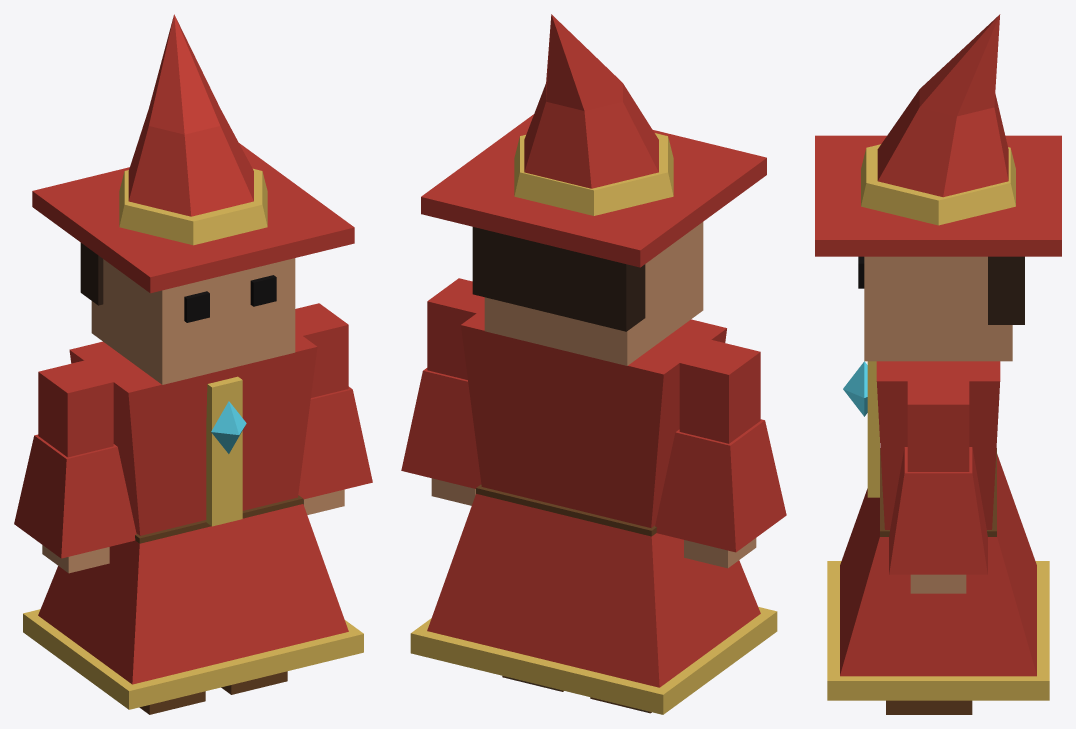
The model's file is Mage.obj.
The picture shows the model from 3 angles, left to right: view 1: azimuth 30°, elevation 25°; view 2: azimuth 150°, elevation 25°; view 3: azimuth 270°, elevation 25°; orthographic projection. The views are drawn at different scales.
Parts seen in each view (by area): view 1: Torso, Head, ArmL, ArmR, LegR, LegL; view 2: Torso, Head, ArmL, ArmR; view 3: Head, Torso, ArmR, LegR.
Boxes of the visible parts, <box> form: Torso: <box>23,331,363,709</box>; Head: <box>32,14,354,384</box>; ArmL: <box>14,360,136,573</box>; ArmR: <box>295,303,372,514</box>; LegR: <box>221,671,287,694</box>; LegL: <box>139,691,205,714</box>; Torso: <box>410,308,777,714</box>; Head: <box>421,14,766,365</box>; ArmL: <box>655,340,786,568</box>; ArmR: <box>401,278,484,505</box>; Head: <box>815,14,1061,361</box>; Torso: <box>827,361,1049,700</box>; ArmR: <box>889,381,987,593</box>; LegR: <box>886,700,972,714</box>.
Bounding box in the file's own units: 0.61 × 1.2 × 0.4.
